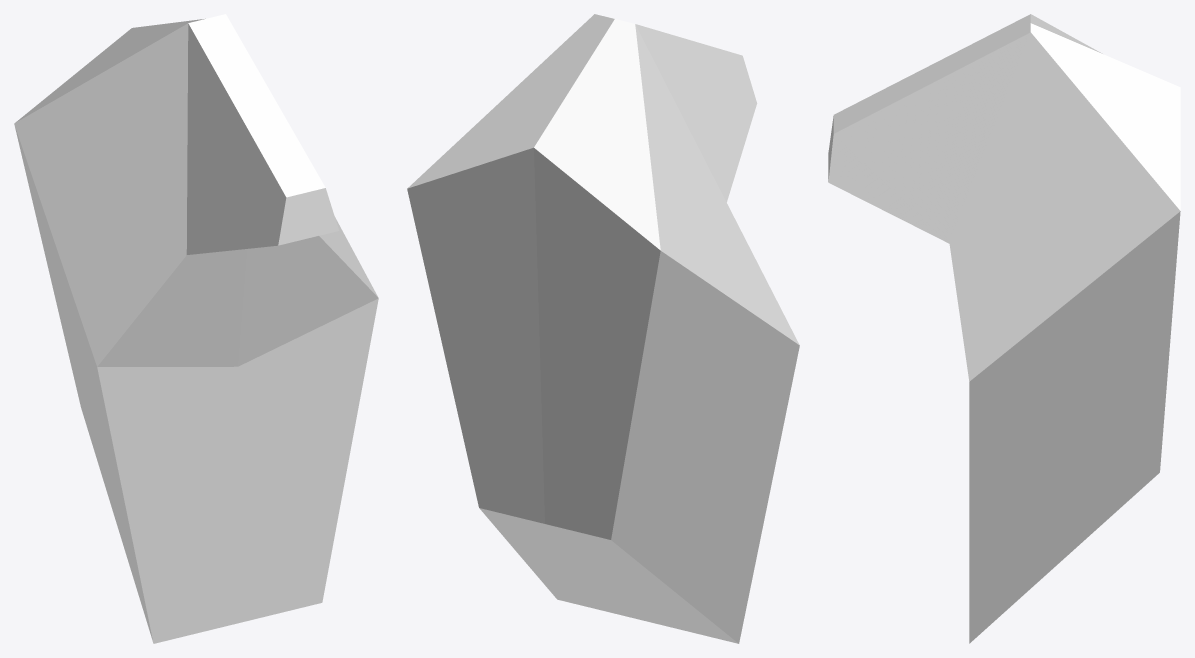
File: head_4.fbx
3 views of the same model, side by side, from view 1: azimuth 30°, elevation 25°; view 2: azimuth 150°, elevation 25°; view 3: azimuth 270°, elevation 25° (orthographic). The views are drawn at different scales.
Visible parts, largest first — view 1: Cube.122; view 2: Cube.122; view 3: Cube.122.
Part boxes in pixels (bbox=[...]): Cube.122: bbox=[14, 14, 378, 643]; Cube.122: bbox=[407, 14, 799, 643]; Cube.122: bbox=[828, 14, 1180, 643].
Bounding box in the file's own units: 12.39 × 24.47 × 13.47.
